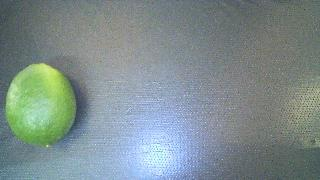EXPORTACION: (5, 63, 77, 147)
